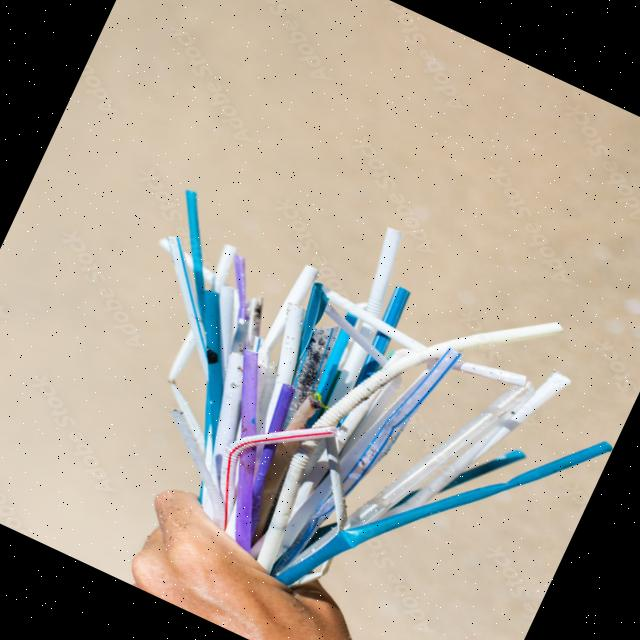plastic: (190, 388, 348, 550)
